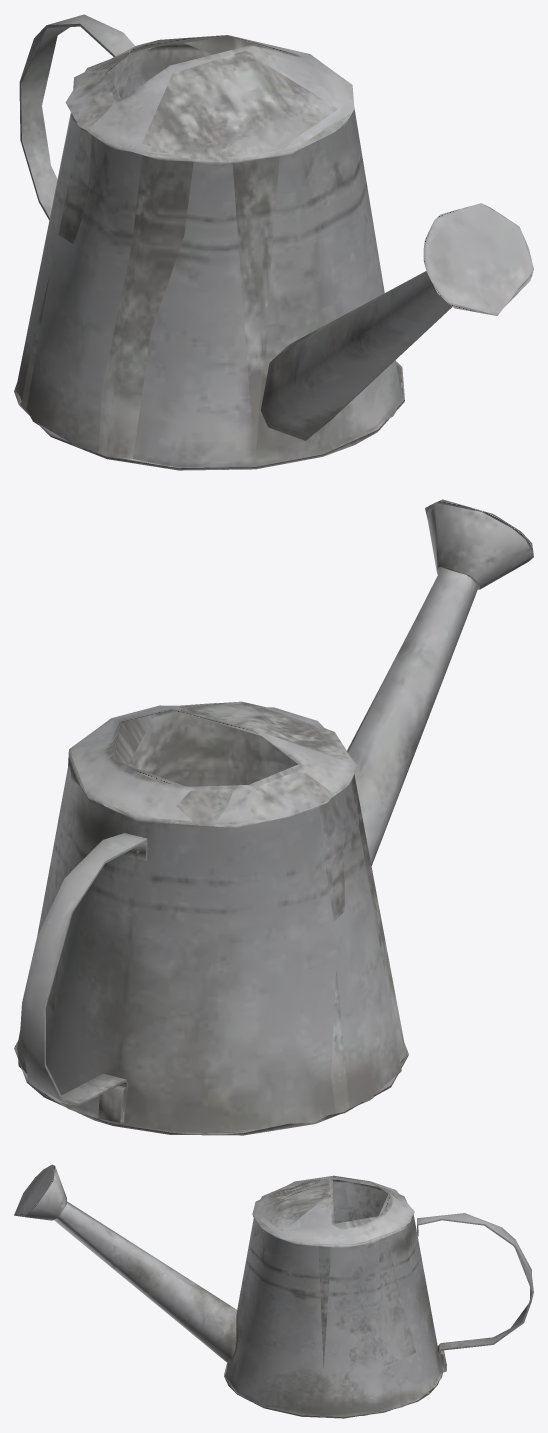
The model's file is watering_can_metal_01.glb.
3 renders of one model, top to bottom at view 1: azimuth 30°, elevation 25°; view 2: azimuth 150°, elevation 25°; view 3: azimuth 270°, elevation 25°, orthographic. The views are drawn at different scales.
Visible parts, largest first — view 1: watering_can_metal_01; view 2: watering_can_metal_01; view 3: watering_can_metal_01.
Part boxes in pixels (bbox=[...]): watering_can_metal_01: bbox=[14, 14, 533, 470]; watering_can_metal_01: bbox=[14, 499, 533, 1135]; watering_can_metal_01: bbox=[14, 1164, 533, 1418].
Size of the model in its own units: 0.1896 by 0.1943 by 0.4521.
1 material, 1 textured.
